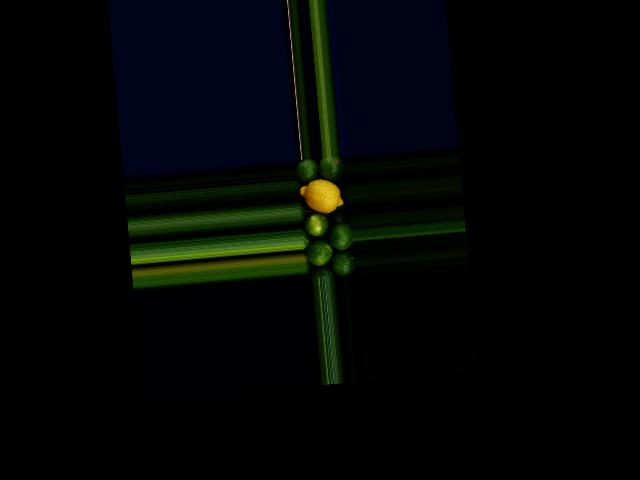lemon: (299, 177, 344, 216)
